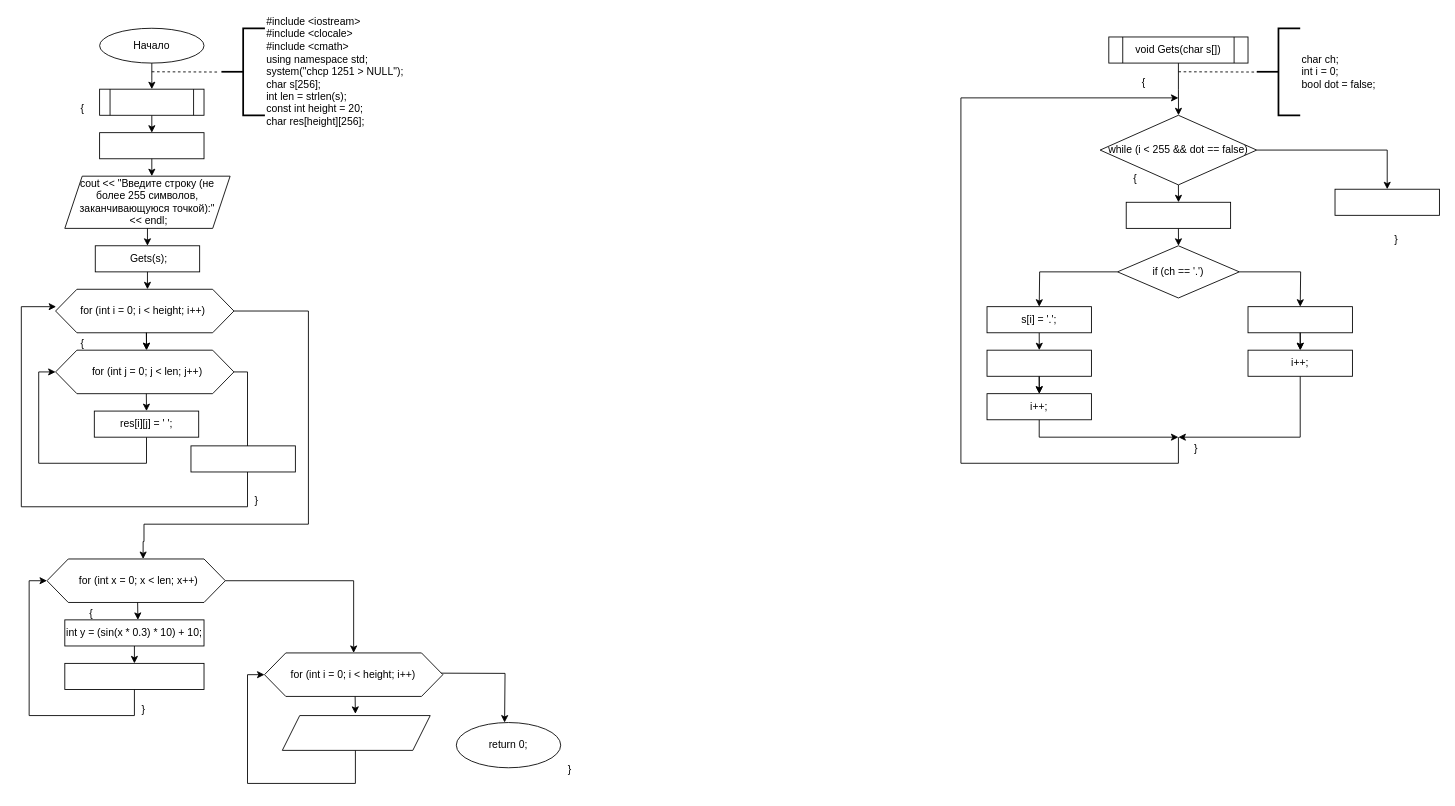
Image size: 1455x806. Some labels were removed from this diagram. Here are the shapes that lost their labels. From the top down, the centre of each, then its label:
[151,101]: int main()
[151,145]: setlocale(LC_ALL, "Russian");
[1178,214]: ch = cin.get();
[1386,201]: s[i] = '\0';
[1299,319]: s[i] = ch;
[1038,362]: dot = true;
[242,458]: res[i][len] = '\0';
[134,676]: res[y][x] = s[x];
[355,732]: cout << res[i] << endl;
